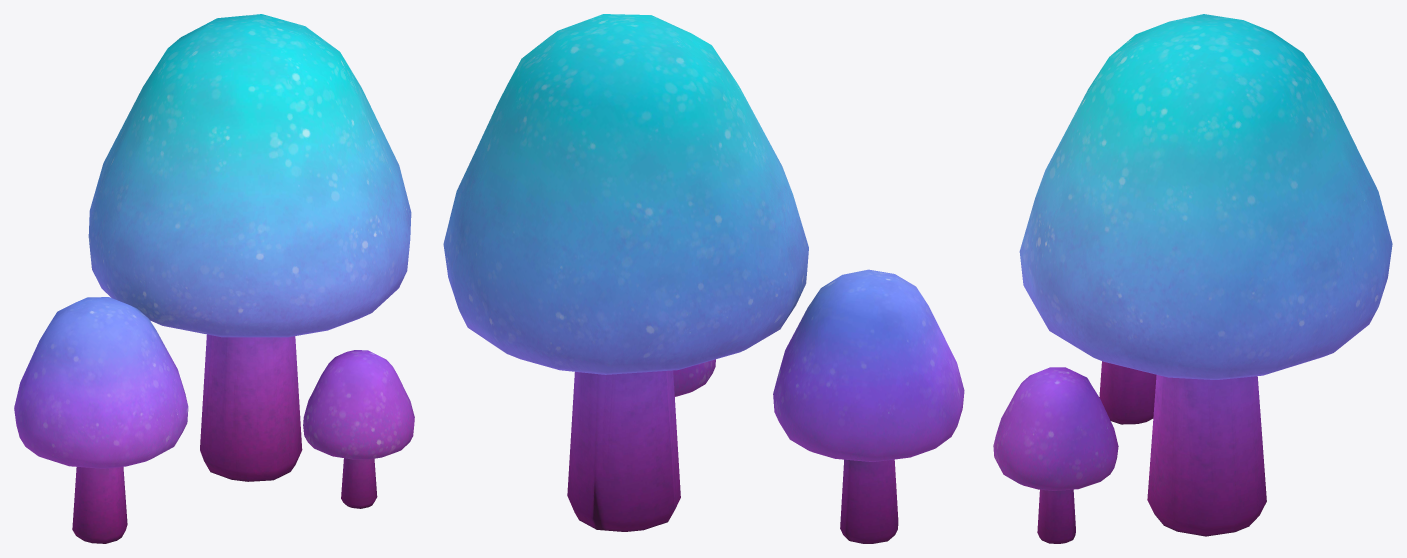
Rendered from UC_Mushroom_01_1.gltf.
3 views of the same model, side by side, from view 1: azimuth 30°, elevation 25°; view 2: azimuth 150°, elevation 25°; view 3: azimuth 270°, elevation 25° (orthographic). The views are drawn at different scales.
Parts seen in each view (by area): view 1: UC_Mushroom_01_1(Clone); view 2: UC_Mushroom_01_1(Clone); view 3: UC_Mushroom_01_1(Clone).
Part boxes in pixels (left/top/right/bottom): UC_Mushroom_01_1(Clone): left=14, top=14, right=414, bottom=543; UC_Mushroom_01_1(Clone): left=443, top=14, right=964, bottom=543; UC_Mushroom_01_1(Clone): left=993, top=14, right=1392, bottom=543.
Size of the model in its own units: 0.3729 by 0.3859 by 0.2864.
1 material, 1 textured.
